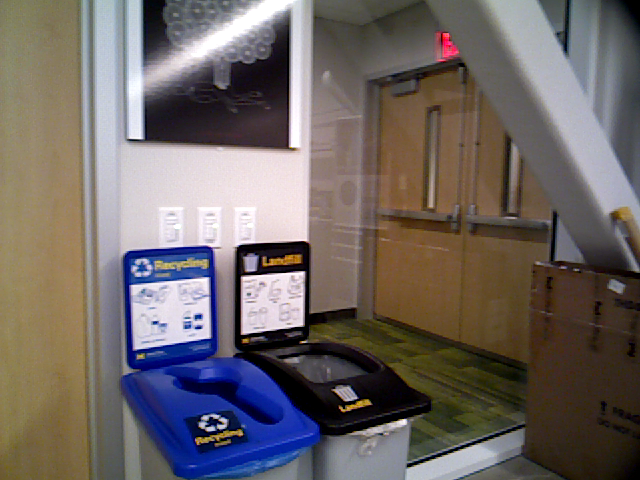painting1: (122, 1, 302, 146)
